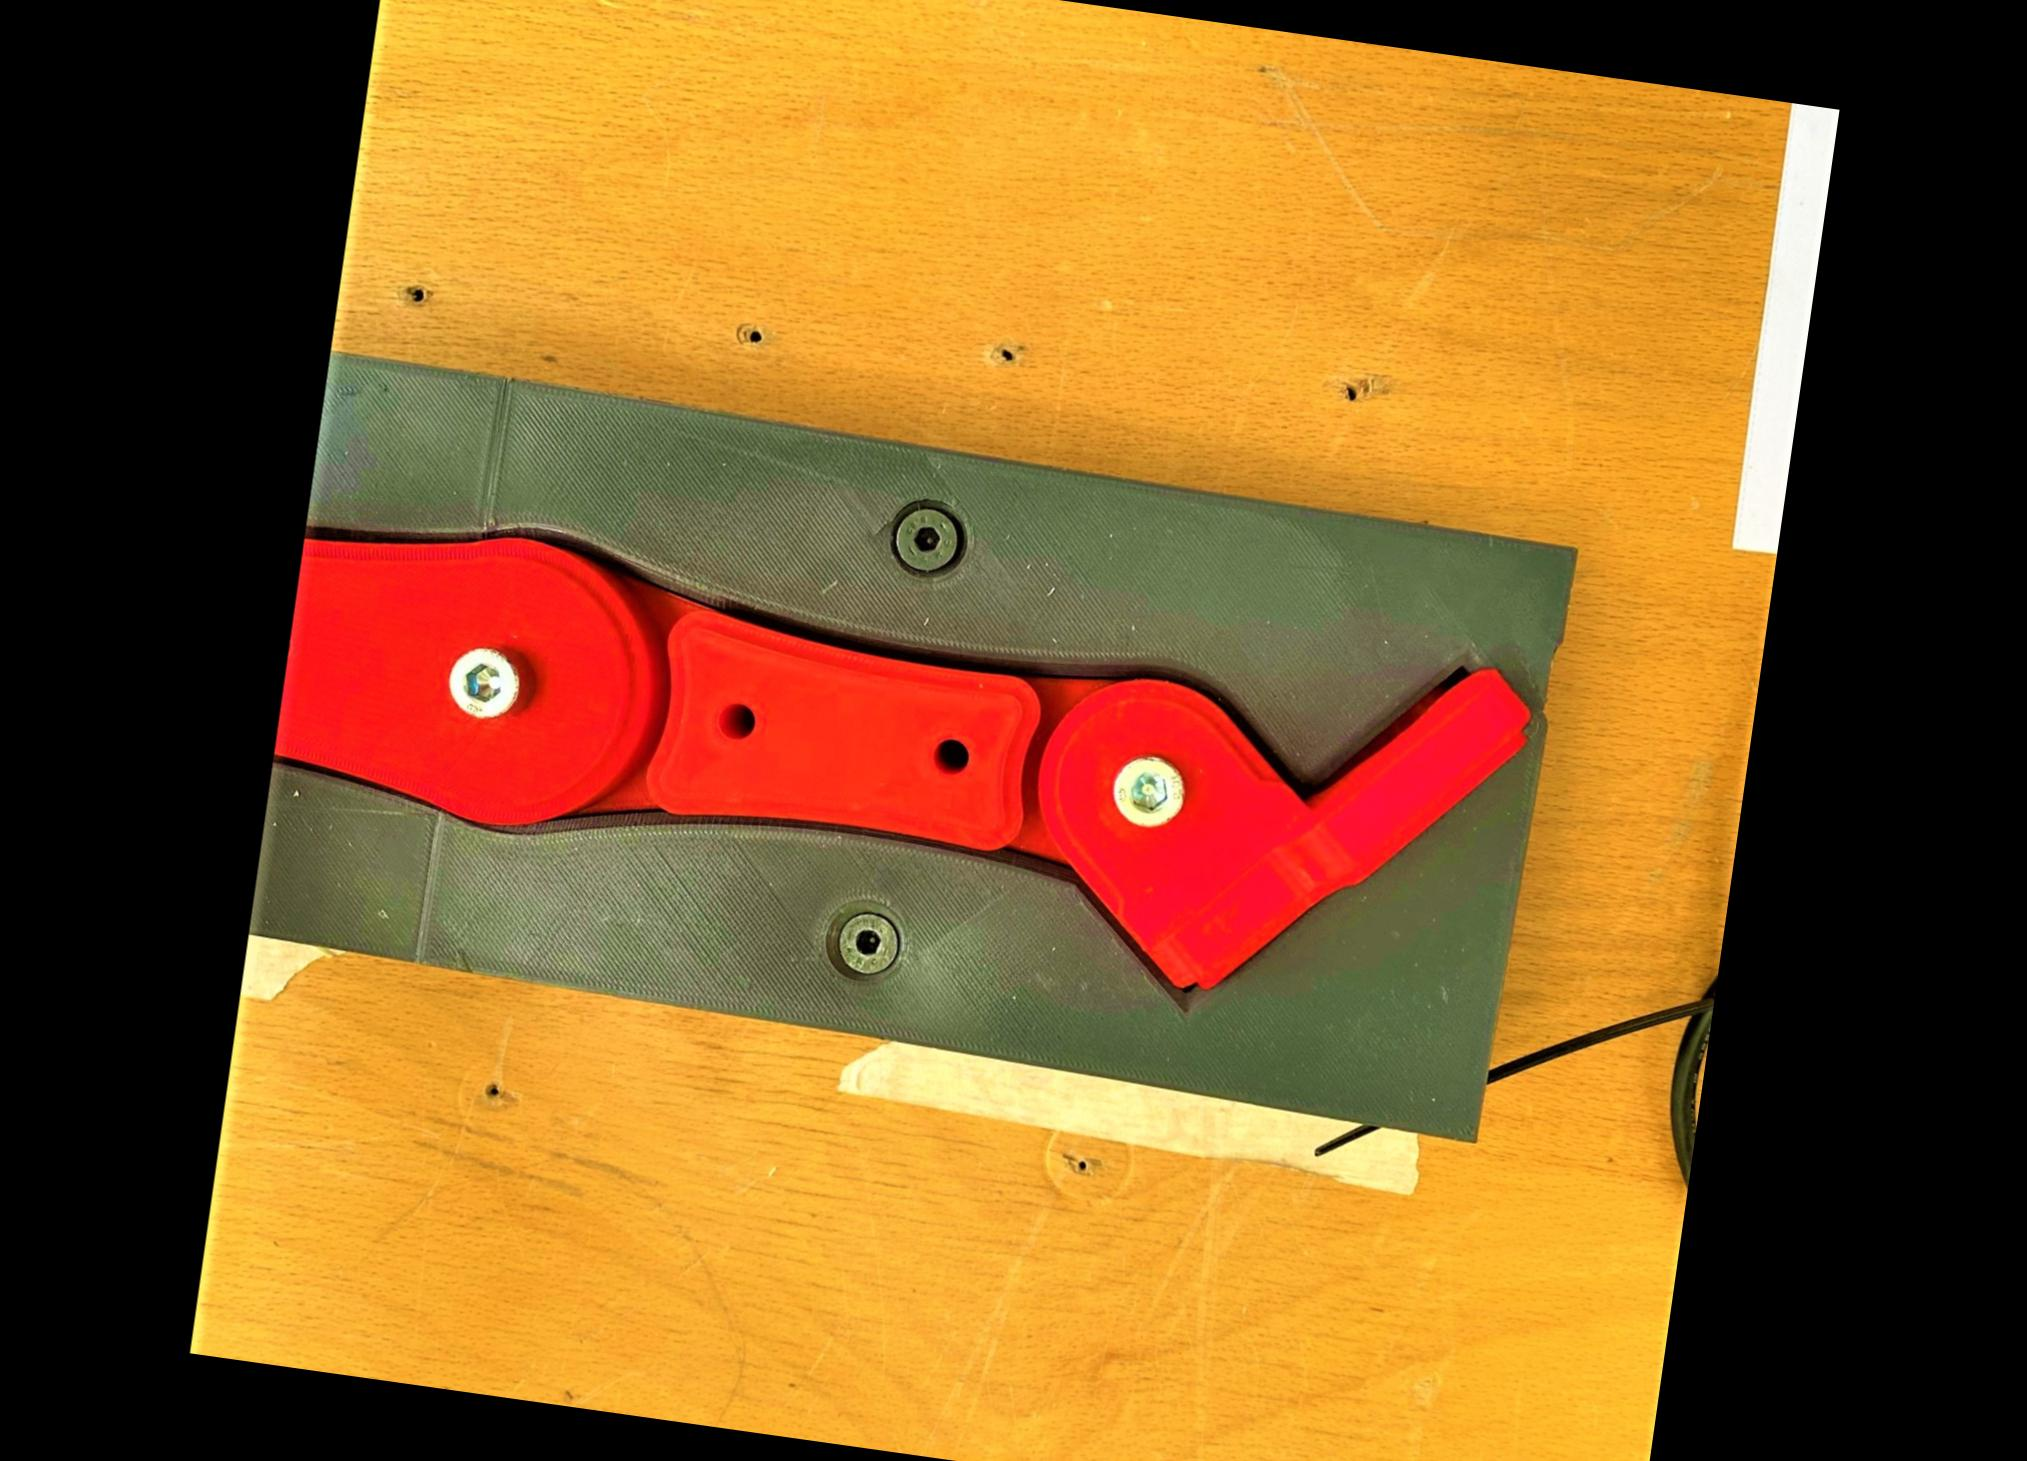H: (1105, 749, 1188, 828), (442, 642, 522, 721), (889, 501, 963, 575), (833, 905, 899, 978)
